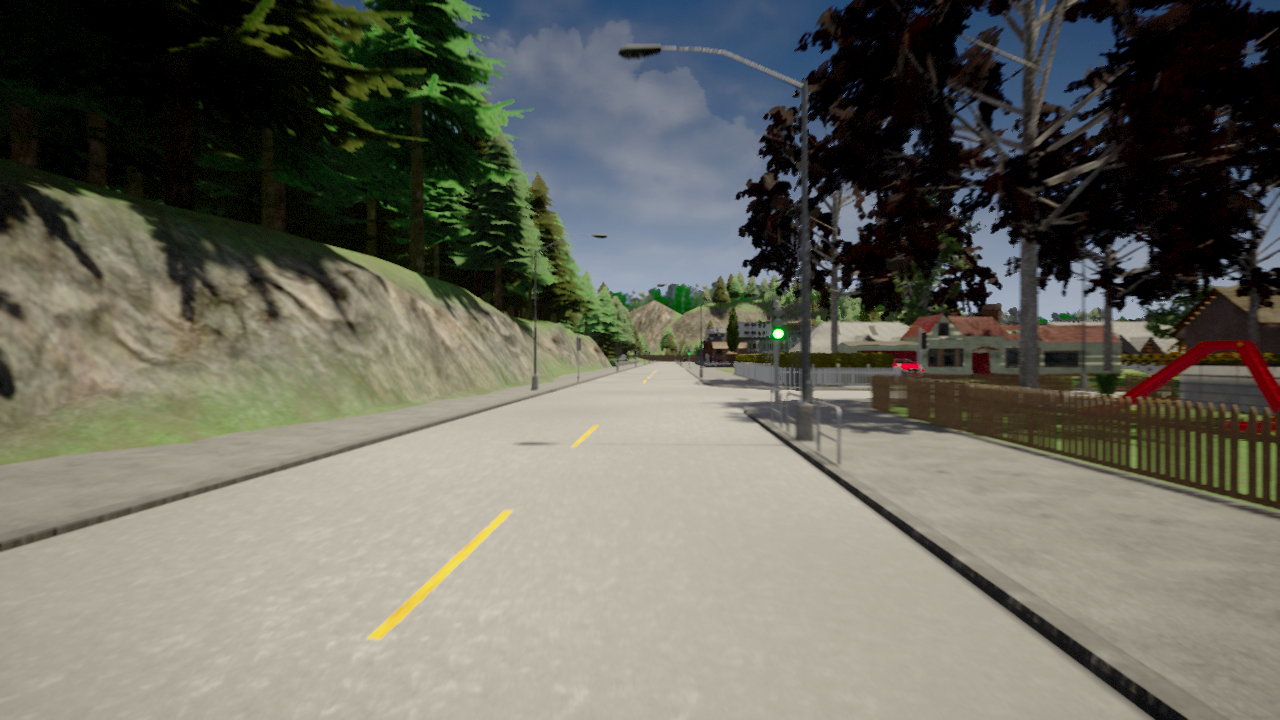green: (772, 304, 784, 341)
